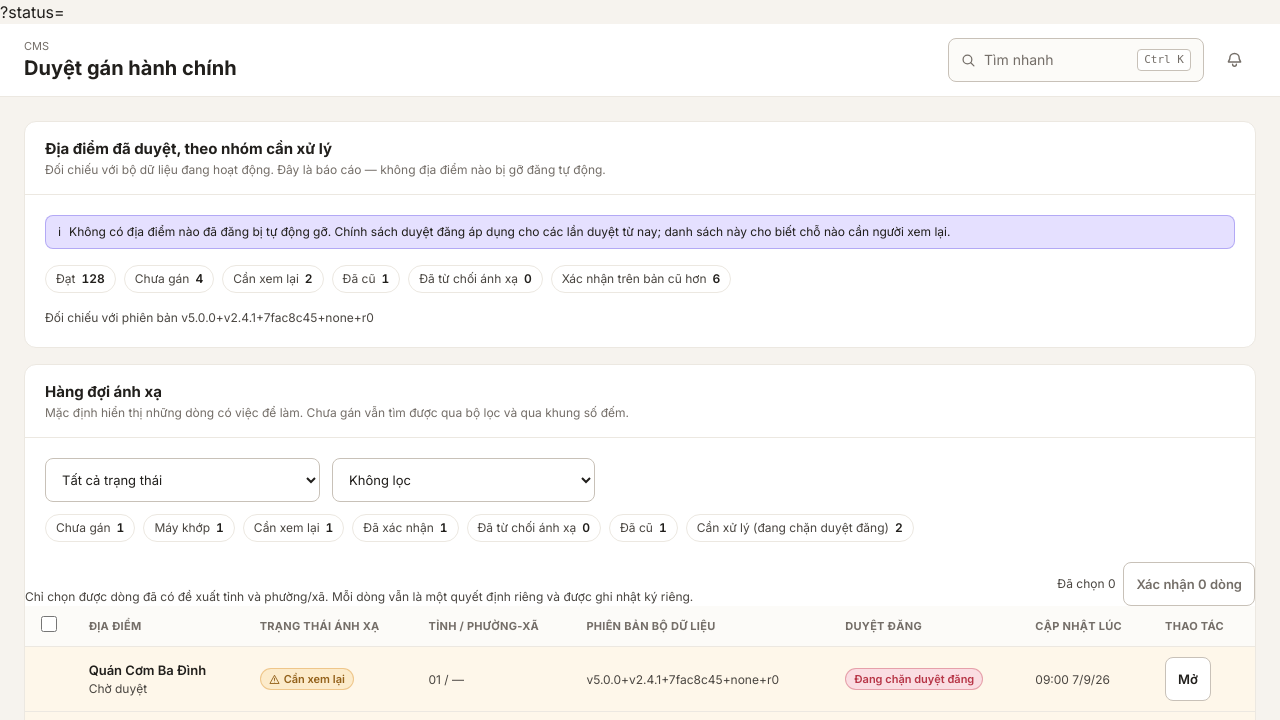
Test: what each role may do › asks the reviewer to choose when there is no pair to approve
Step 1. Click the button "Mở" → (1188, 679), box [1165,657,1211,701]
(page scrolled)
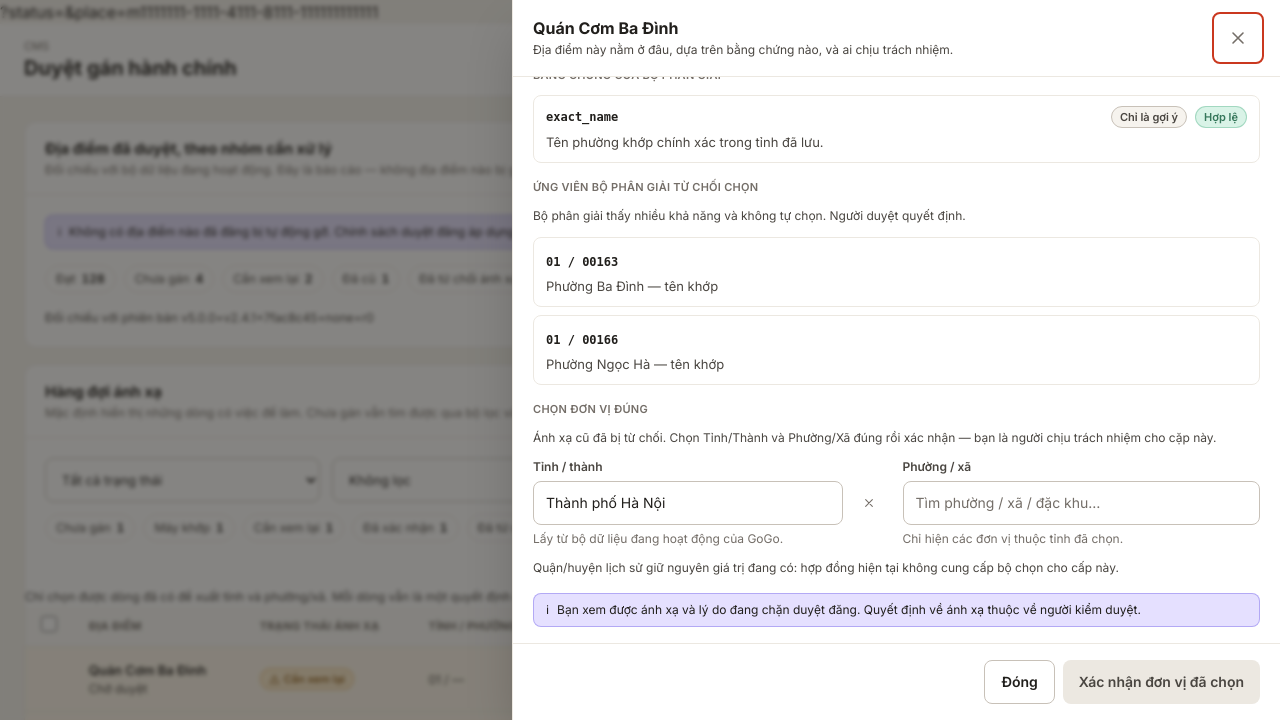
Now the button "Xác nhận đơn vị đã chọn" is shown, box [1063,660,1260,704]
Now the dropdown labelled "Tỉnh / thành" is shown, box [533,481,842,525]
